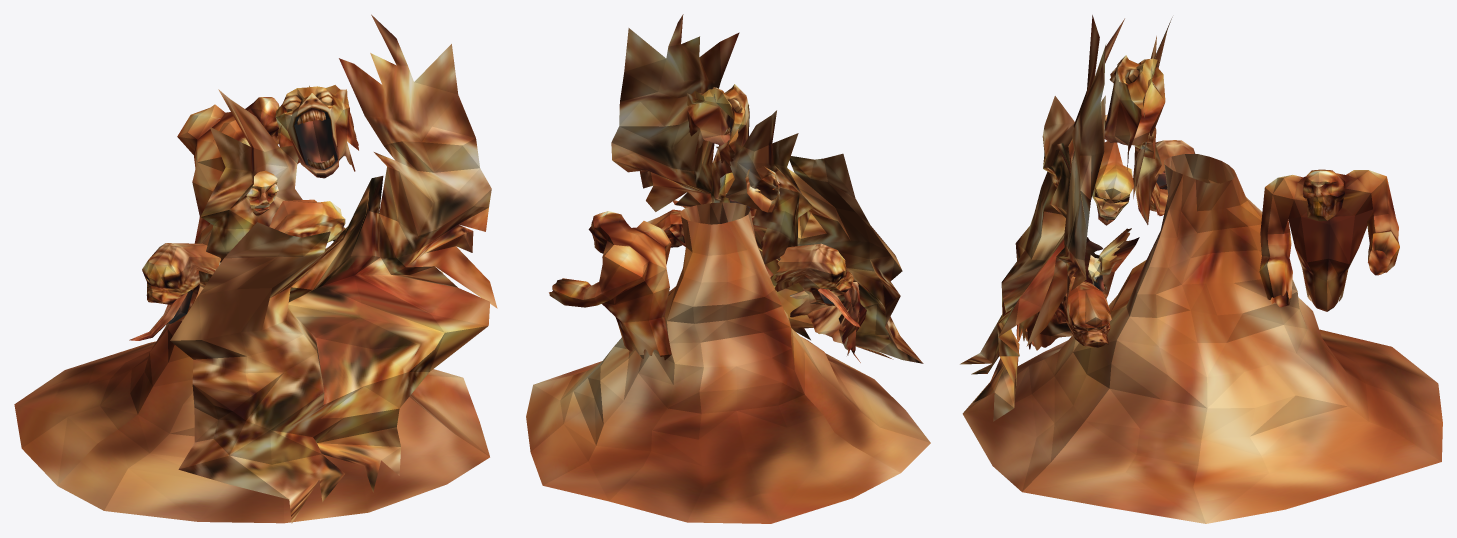
Rendered from Creeping Flame.fbx.
The picture shows the model from 3 angles, left to right: view 1: azimuth 30°, elevation 25°; view 2: azimuth 150°, elevation 25°; view 3: azimuth 270°, elevation 25°; orthographic projection. The views are drawn at different scales.
Visible parts, largest first — view 1: Effect, Base, Head 2, Head 1; view 2: Base, Effect, Head 2, Head 1; view 3: Base, Head 2, Effect, Head 1.
Boxes of the visible parts, left/top/right/bottom form: Effect: left=170, top=14, right=497, bottom=523; Base: left=14, top=223, right=489, bottom=523; Head 2: left=129, top=85, right=358, bottom=340; Head 1: left=142, top=199, right=443, bottom=323; Base: left=526, top=202, right=930, bottom=523; Effect: left=611, top=14, right=923, bottom=363; Head 2: left=549, top=84, right=860, bottom=360; Head 1: left=647, top=172, right=866, bottom=362; Base: left=962, top=154, right=1442, bottom=523; Head 2: left=1104, top=55, right=1399, bottom=311; Effect: left=960, top=15, right=1172, bottom=421; Head 1: left=1016, top=140, right=1195, bottom=350.
Size of the model in its own units: 1525 by 1519 by 1497.
4 materials, 4 textured.
